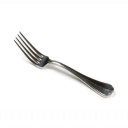Fork: (11, 27, 124, 109)
